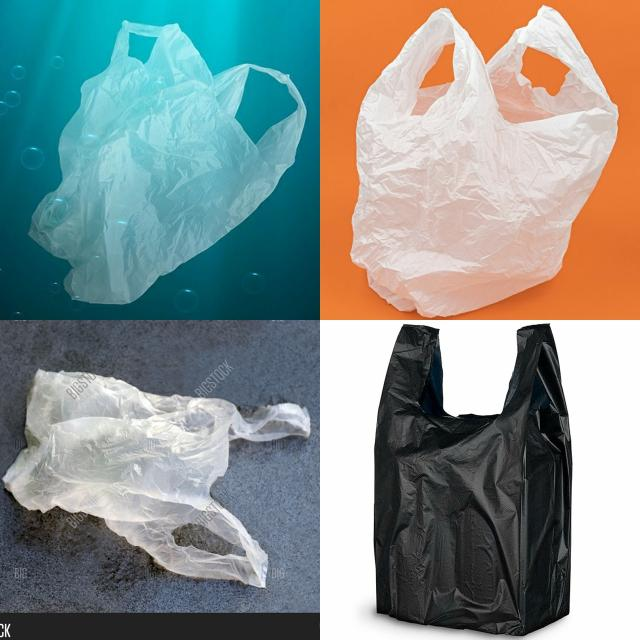Single-layer Plastic: (351, 8, 616, 317), (29, 21, 306, 304), (4, 370, 310, 587), (374, 324, 572, 634)
